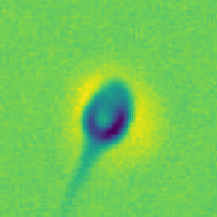normal: (53, 148, 101, 217)
